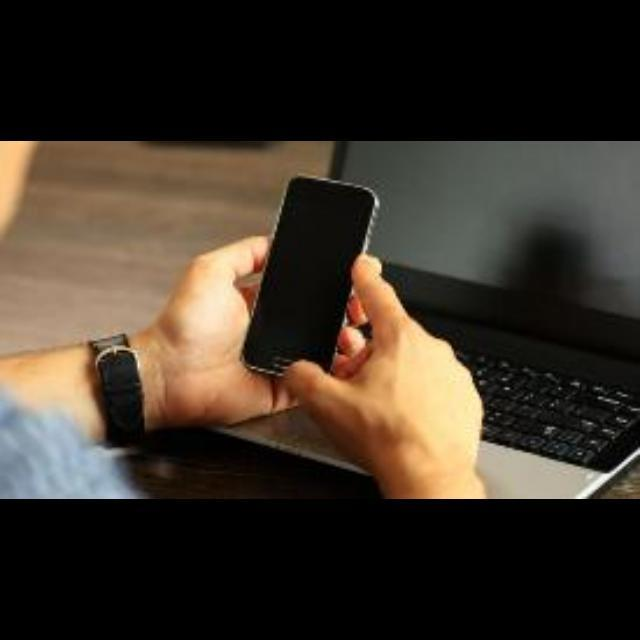Phone: (240, 174, 380, 378)
